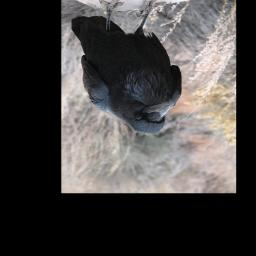Crow: (69, 0, 184, 135)
